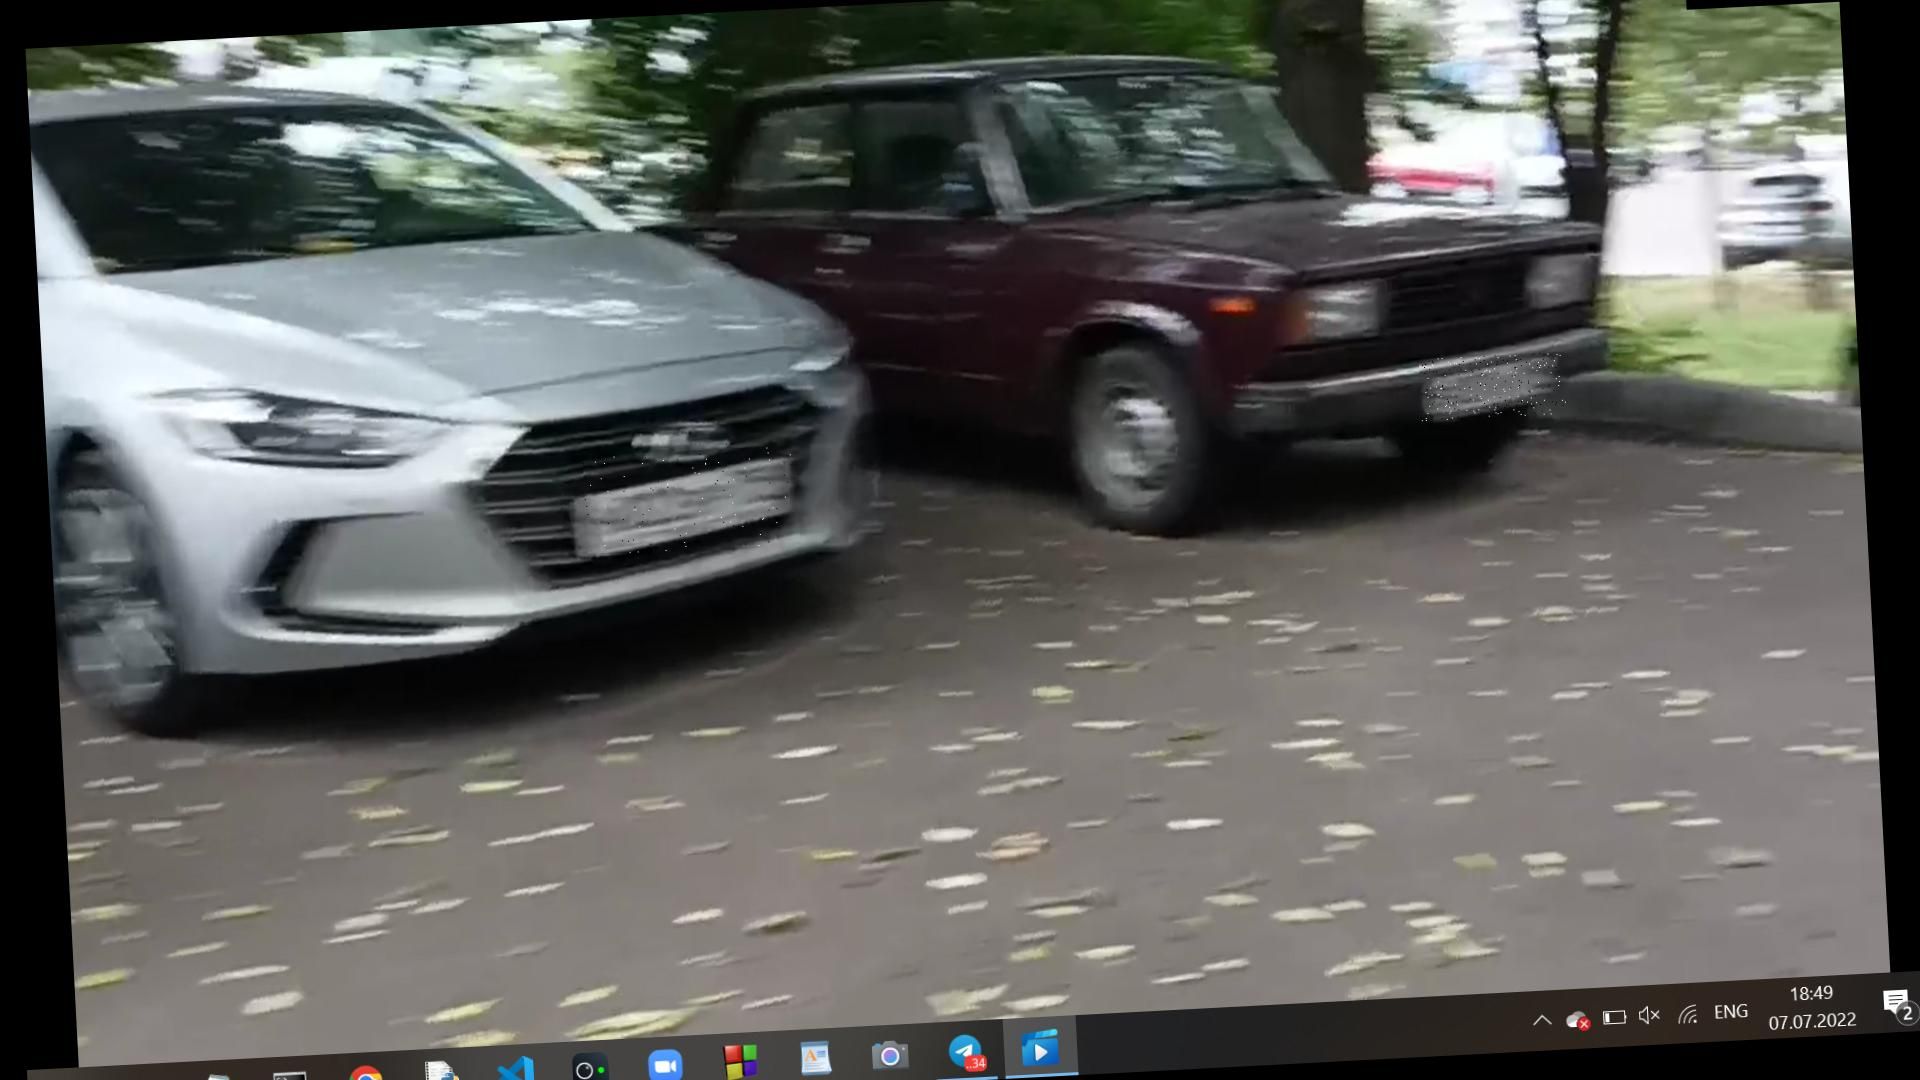plate: (584, 447, 802, 557), (1420, 353, 1569, 422)
